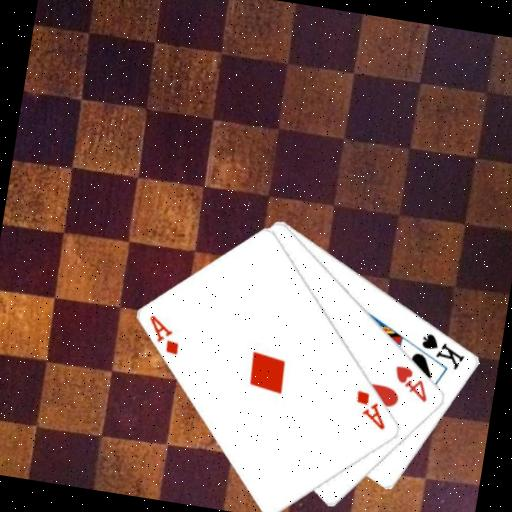4H: (388, 361, 434, 404)
AD: (349, 386, 392, 432), (142, 311, 185, 357)
KS: (415, 328, 470, 372)
